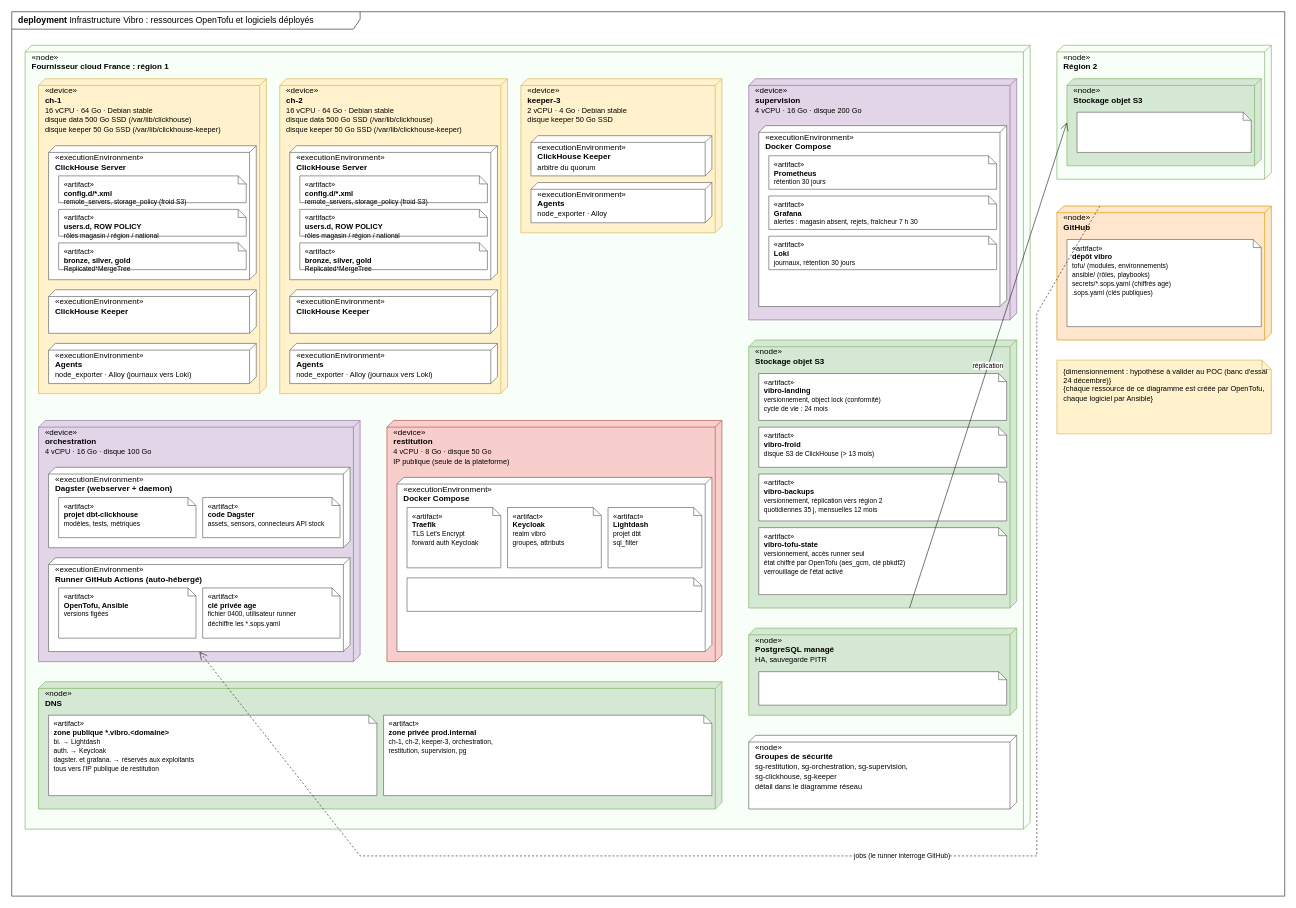
This 1296x908 diagram has some shape labels left out. The centre of each missing label's shape, as x and y in pixels:
"«artifact» bases dagster, lightdash, keycloak" goes at pixel 882 688.
"«artifact» Cube {optionnel} si 2e consommateur" goes at pixel 554 594.
"«artifact» vibro-backups (réplique) même cycle de vie" goes at pixel 1163 132.
